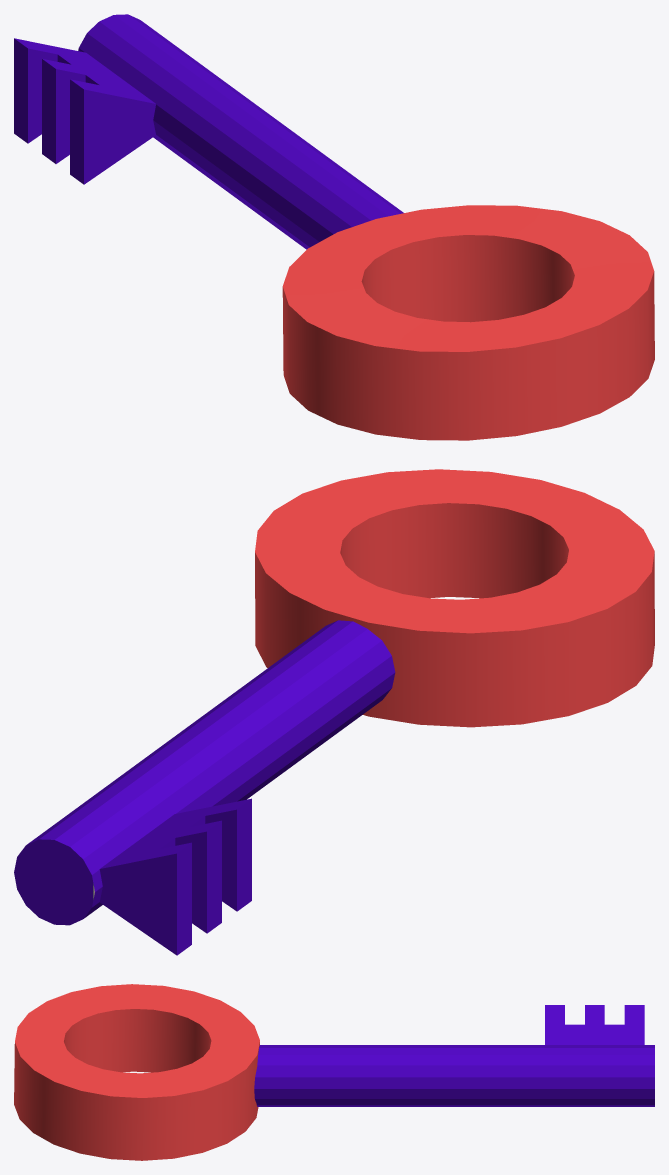
Rendered from CleEnfant.fbx.
3 renders of one model, top to bottom at view 1: azimuth 30°, elevation 25°; view 2: azimuth 150°, elevation 25°; view 3: azimuth 270°, elevation 25°, orthographic. The views are drawn at different scales.
Parts seen in each view (by area): view 1: CleEnfant; view 2: CleEnfant; view 3: CleEnfant.
Part boxes in pixels (x1,y1,x2,y2): CleEnfant: (14,14,654,440); CleEnfant: (14,469,654,955); CleEnfant: (14,984,654,1160).
Size of the model in its own units: 3.14 by 0.8659 by 7.43.
Materials: 1 (1 with a texture image).
